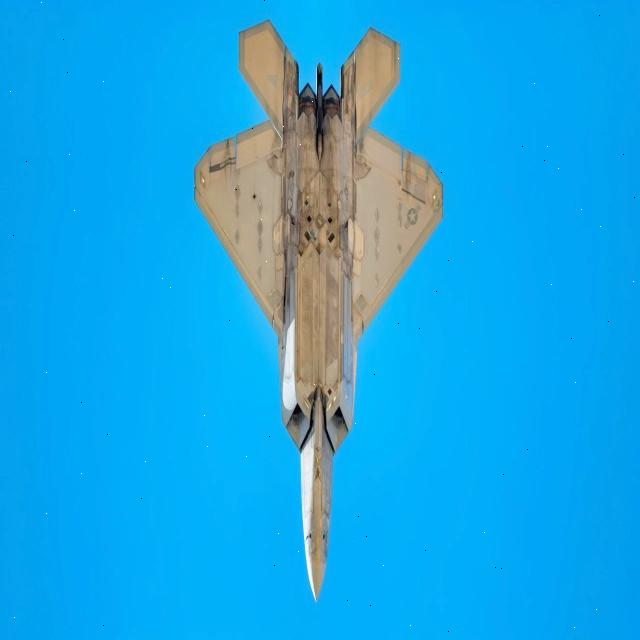F22: (146, 1, 473, 628)
